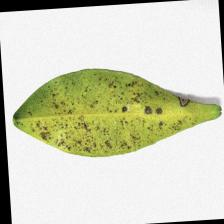canker: (33, 90, 193, 144)
